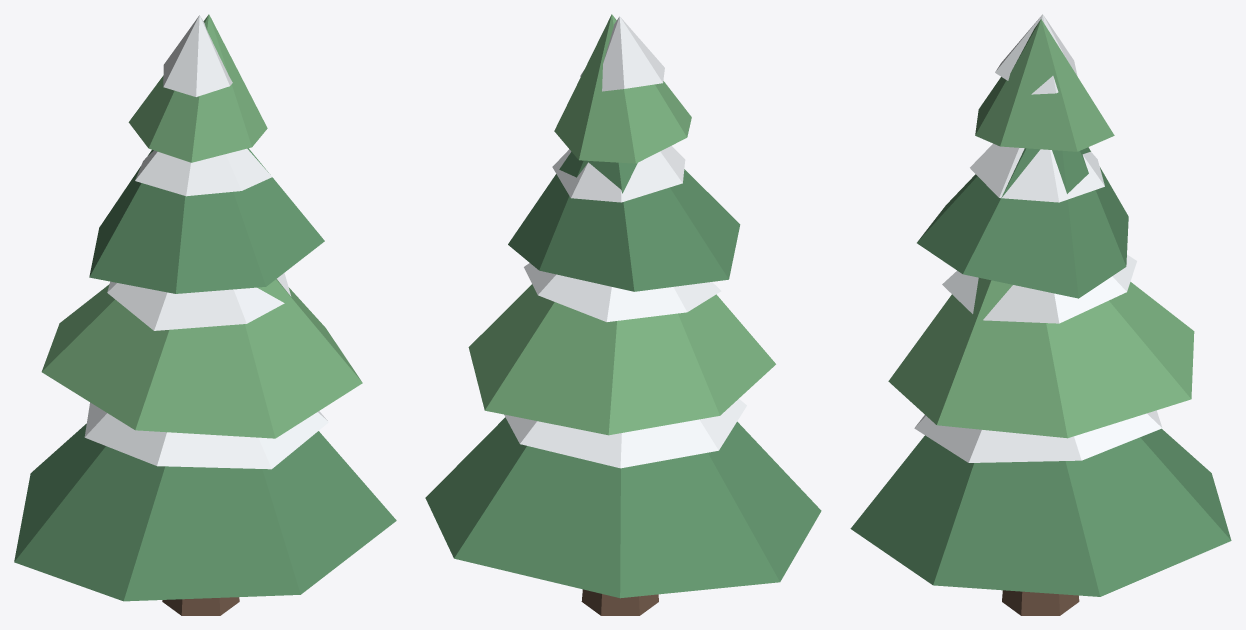
File: tree-snow.glb
The picture shows the model from 3 angles, left to right: view 1: azimuth 30°, elevation 25°; view 2: azimuth 150°, elevation 25°; view 3: azimuth 270°, elevation 25°; orthographic projection.
Parts seen in each view (by area): view 1: Tree_Snow; view 2: Tree_Snow; view 3: Tree_Snow.
Part boxes in pixels (<box>): Tree_Snow: <box>14,14,396,615</box>; Tree_Snow: <box>425,14,821,615</box>; Tree_Snow: <box>850,14,1231,615</box>.
Bounding box in the file's own units: 2.02 × 3.35 × 1.97.
